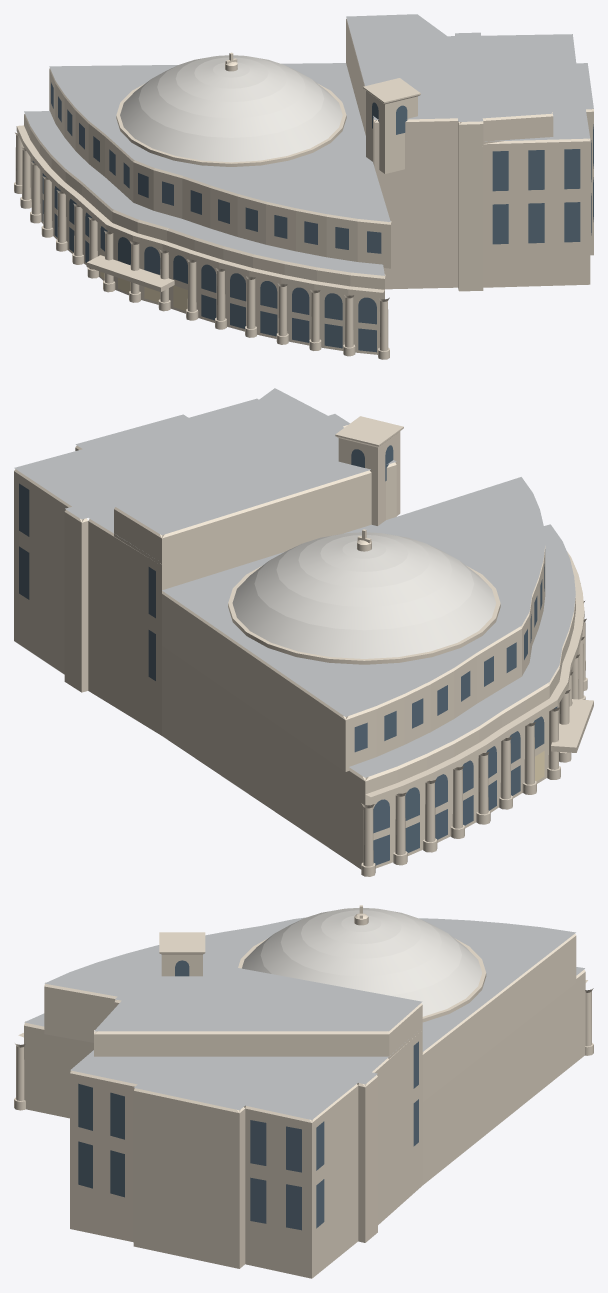
The picture shows the model from 3 angles, top to bottom: view 1: azimuth 30°, elevation 25°; view 2: azimuth 150°, elevation 25°; view 3: azimuth 270°, elevation 25°; orthographic projection. The views are drawn at different scales.
Visible parts, largest first — view 1: angelus-temple; view 2: angelus-temple; view 3: angelus-temple.
Part boxes in pixels (bbox=[...]): angelus-temple: bbox=[14, 14, 593, 359]; angelus-temple: bbox=[14, 388, 593, 876]; angelus-temple: bbox=[14, 905, 593, 1278].
Size of the model in its own units: 75.72 by 29 by 72.88.
